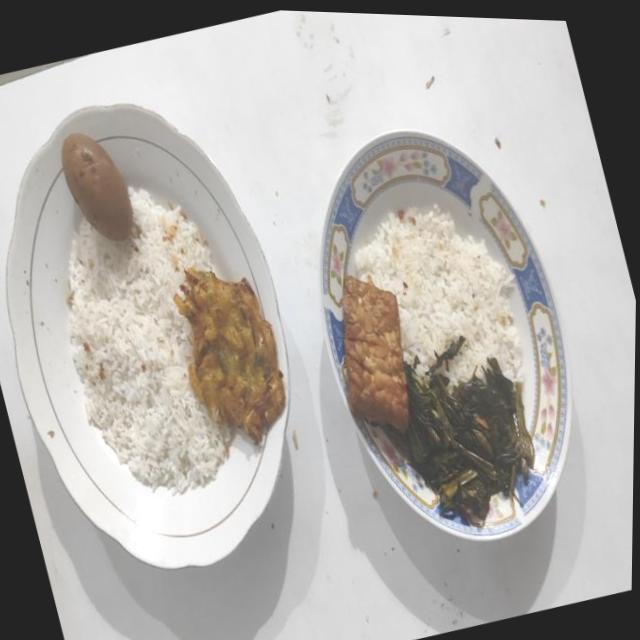nasi_putih: (68, 188, 229, 494), (356, 206, 524, 384)
tempe_goreng: (341, 275, 408, 432)
tumis_kangkung: (381, 336, 534, 526)
